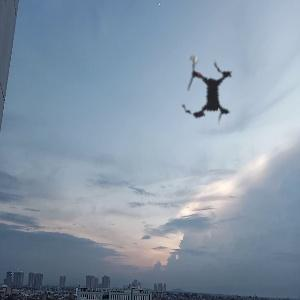drone: (152, 37, 263, 148)
